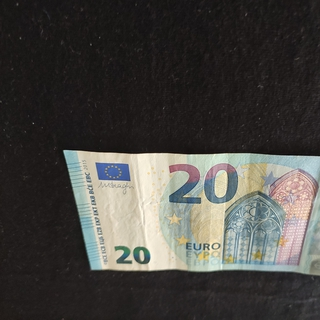20EUROFront: (62, 147, 320, 278)
